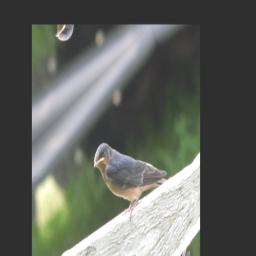Swallow: (90, 98, 171, 240)
